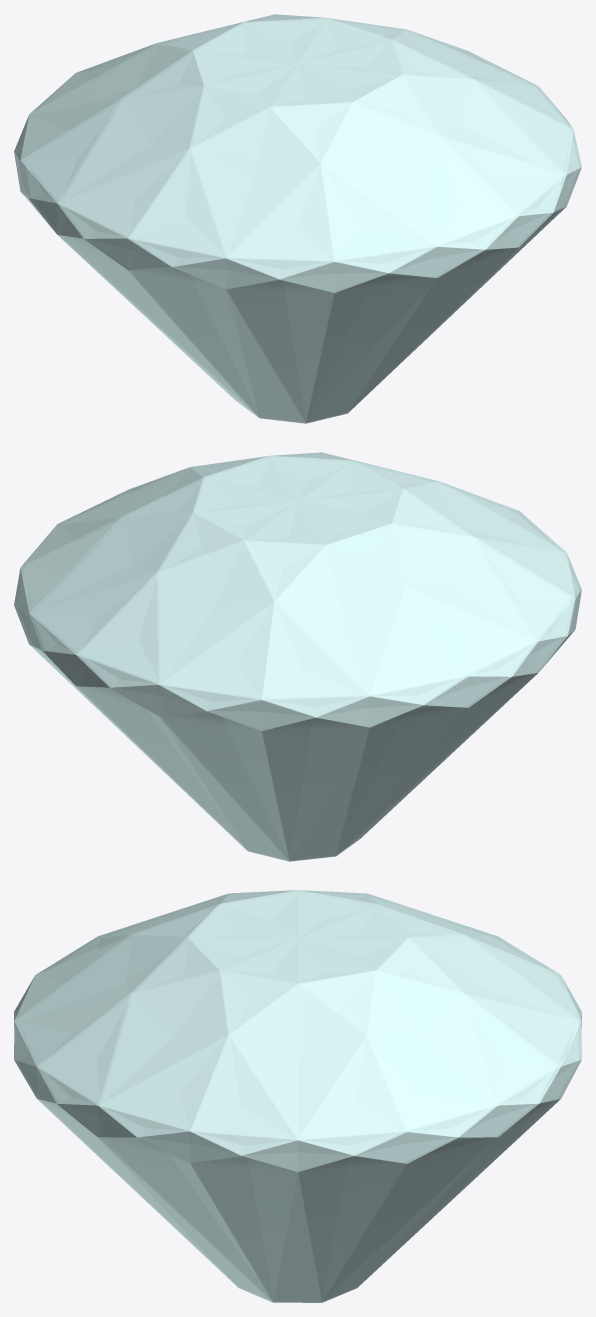
Rendered from obj_jewel_crystal04.fbx.
The picture shows the model from 3 angles, top to bottom: view 1: azimuth 30°, elevation 25°; view 2: azimuth 150°, elevation 25°; view 3: azimuth 270°, elevation 25°; orthographic projection.
Parts seen in each view (by area): view 1: lod0_obj_jewel_crystal04.001; view 2: lod0_obj_jewel_crystal04.001; view 3: lod0_obj_jewel_crystal04.001.
Boxes of the visible parts, box(x1,y1,x2,y2) form: lod0_obj_jewel_crystal04.001: box(14, 14, 581, 423); lod0_obj_jewel_crystal04.001: box(14, 452, 581, 861); lod0_obj_jewel_crystal04.001: box(14, 890, 581, 1302).
Size of the model in its own units: 15.12 by 10 by 15.1.
